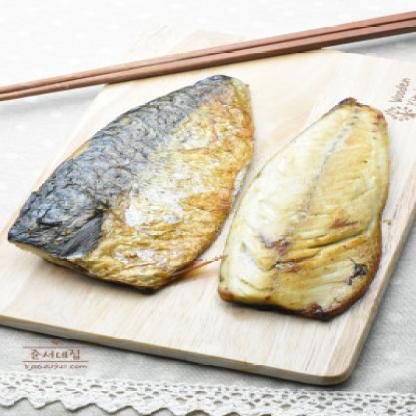Peixe: (0, 74, 413, 334)
